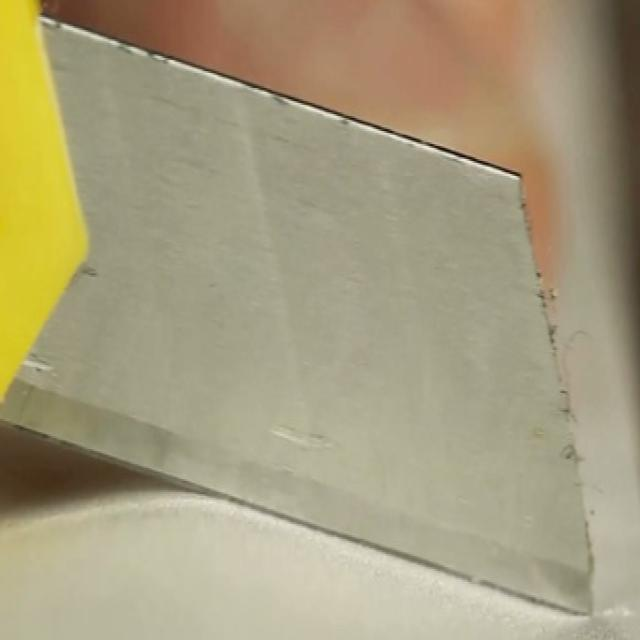knives: (49, 9, 626, 624)
